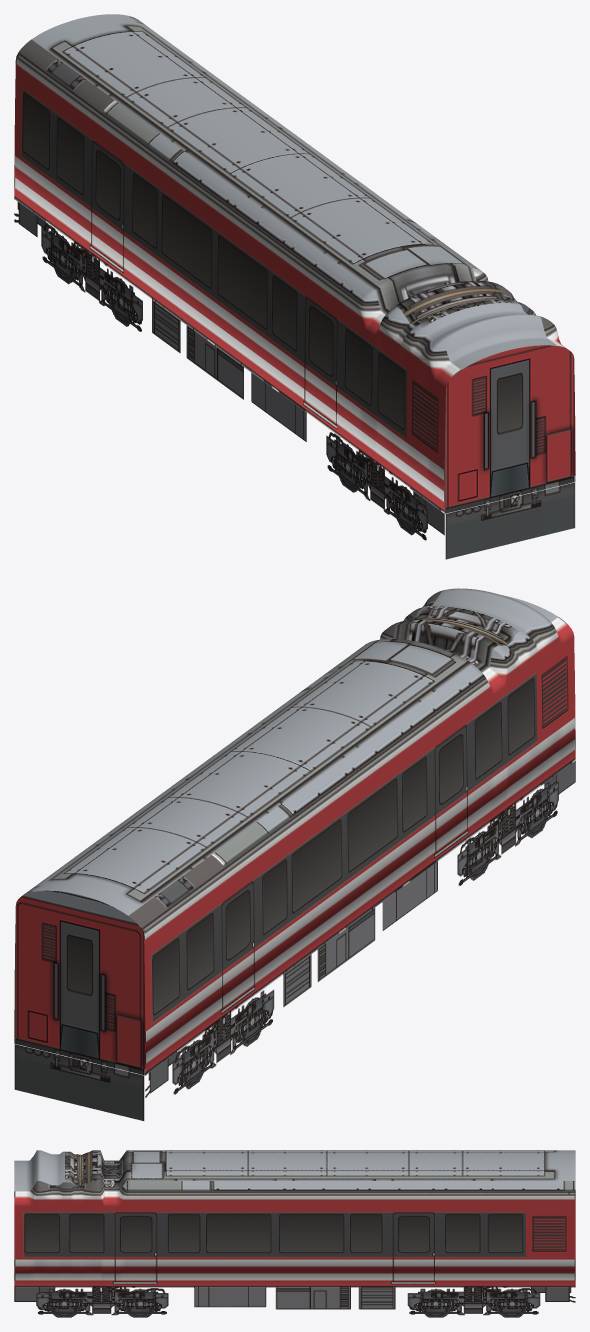
File: car2.glb
3 renders of one model, top to bottom at view 1: azimuth 30°, elevation 25°; view 2: azimuth 150°, elevation 25°; view 3: azimuth 270°, elevation 25°, orthographic. The views are drawn at different scales.
Visible parts, largest first — view 1: hakonetozan-2000; view 2: hakonetozan-2000; view 3: hakonetozan-2000.
Part boxes in pixels (left/top/right/bottom): hakonetozan-2000: left=14, top=14, right=575, bottom=559; hakonetozan-2000: left=14, top=588, right=575, bottom=1120; hakonetozan-2000: left=14, top=1150, right=575, bottom=1317.
Size of the model in its own units: 2.58 by 3.95 by 14.69.
Materials: 8 (7 with a texture image).
